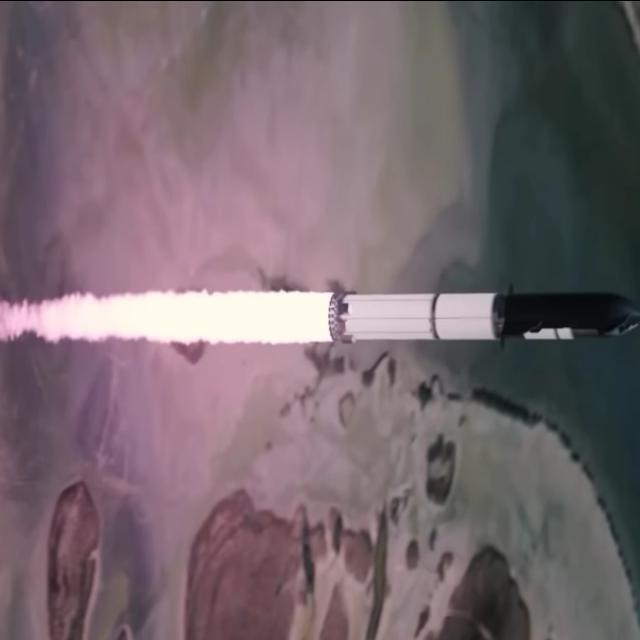missile: (322, 285, 638, 347)
